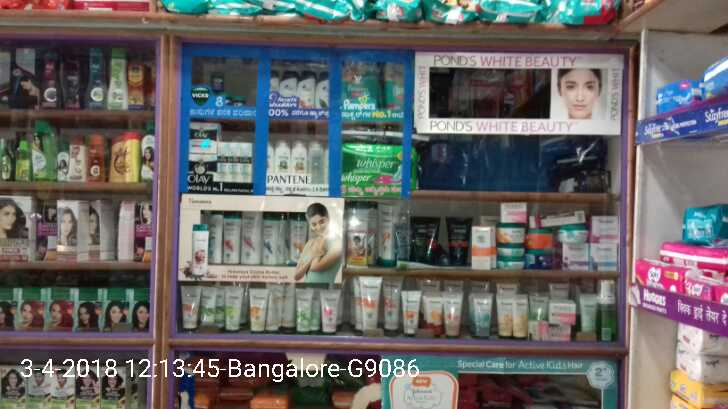vicks: (210, 74, 249, 109)
